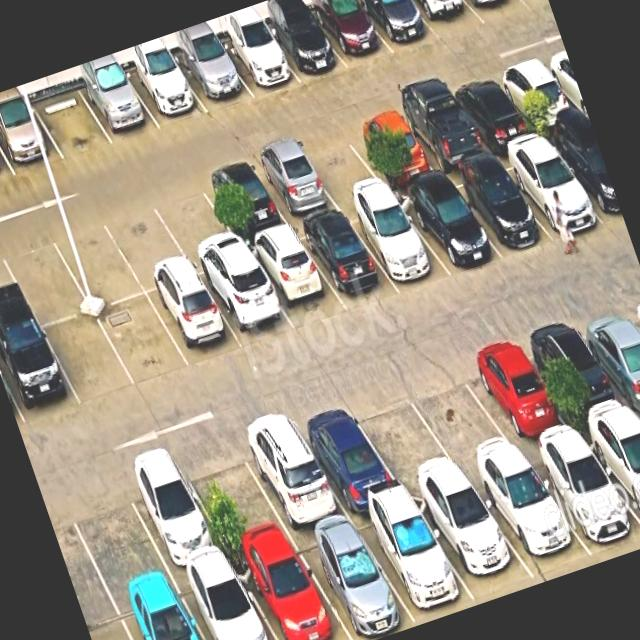empty: (397, 352, 523, 476), (173, 433, 291, 556), (58, 468, 170, 597), (343, 375, 464, 492), (147, 177, 246, 275), (46, 212, 145, 309), (100, 197, 196, 292), (95, 293, 191, 387), (42, 311, 135, 406), (0, 229, 91, 326), (294, 127, 385, 205), (31, 87, 113, 159)
occupied: (351, 497, 477, 625), (290, 519, 416, 640), (411, 479, 535, 599), (231, 408, 348, 535), (456, 333, 577, 455), (469, 457, 592, 577), (115, 450, 229, 575), (287, 394, 404, 514), (521, 312, 636, 432), (525, 438, 640, 555), (231, 538, 351, 640), (493, 138, 604, 237), (393, 179, 502, 276), (244, 229, 346, 332), (441, 161, 550, 257), (294, 211, 398, 310), (343, 196, 451, 290), (147, 276, 243, 368), (199, 260, 295, 348), (173, 558, 276, 640), (542, 122, 624, 223), (569, 297, 640, 413), (0, 324, 80, 426), (393, 91, 489, 172), (197, 160, 289, 243), (248, 143, 339, 223), (344, 109, 437, 185), (446, 73, 535, 148), (492, 57, 580, 130), (581, 414, 640, 519), (262, 11, 347, 82), (77, 72, 160, 143), (123, 59, 207, 128), (308, 0, 393, 68), (113, 577, 204, 640), (216, 30, 300, 96), (174, 45, 252, 112), (0, 102, 63, 175), (357, 0, 439, 53), (408, 0, 484, 41), (465, 0, 529, 23)
